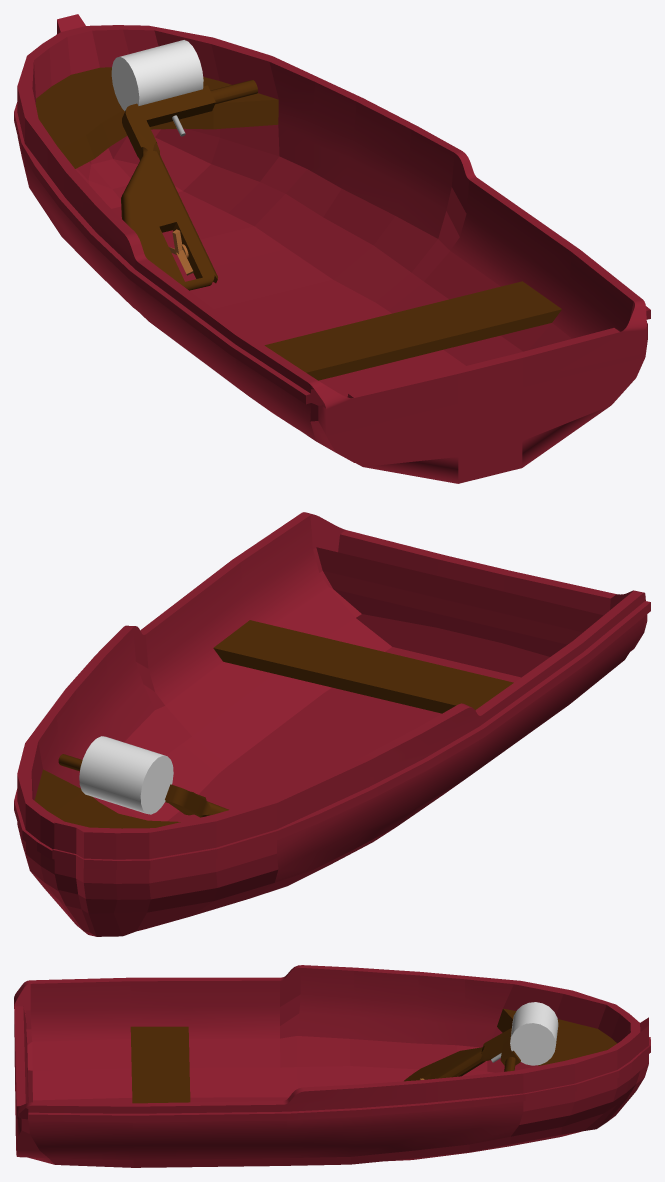
File: boot 2.fbx
The picture shows the model from 3 angles, top to bottom: view 1: azimuth 30°, elevation 25°; view 2: azimuth 150°, elevation 25°; view 3: azimuth 270°, elevation 25°; orthographic projection. The views are drawn at different scales.
Visible parts, largest first — view 1: pCube3, pCube9; view 2: pCube3, pCube9; view 3: pCube3, pCube9.
Boxes of the visible parts, x1=… form: pCube3: x1=14, y1=14, x2=650, y2=483; pCube9: x1=111, y1=40, x2=258, y2=290; pCube3: x1=14, y1=512, x2=650, y2=936; pCube9: x1=58, y1=736, x2=228, y2=817; pCube3: x1=14, y1=965, x2=650, y2=1167; pCube9: x1=404, y1=1002, x2=558, y2=1081.
Bounding box in the file's own units: 24.58 × 12 × 49.93.
